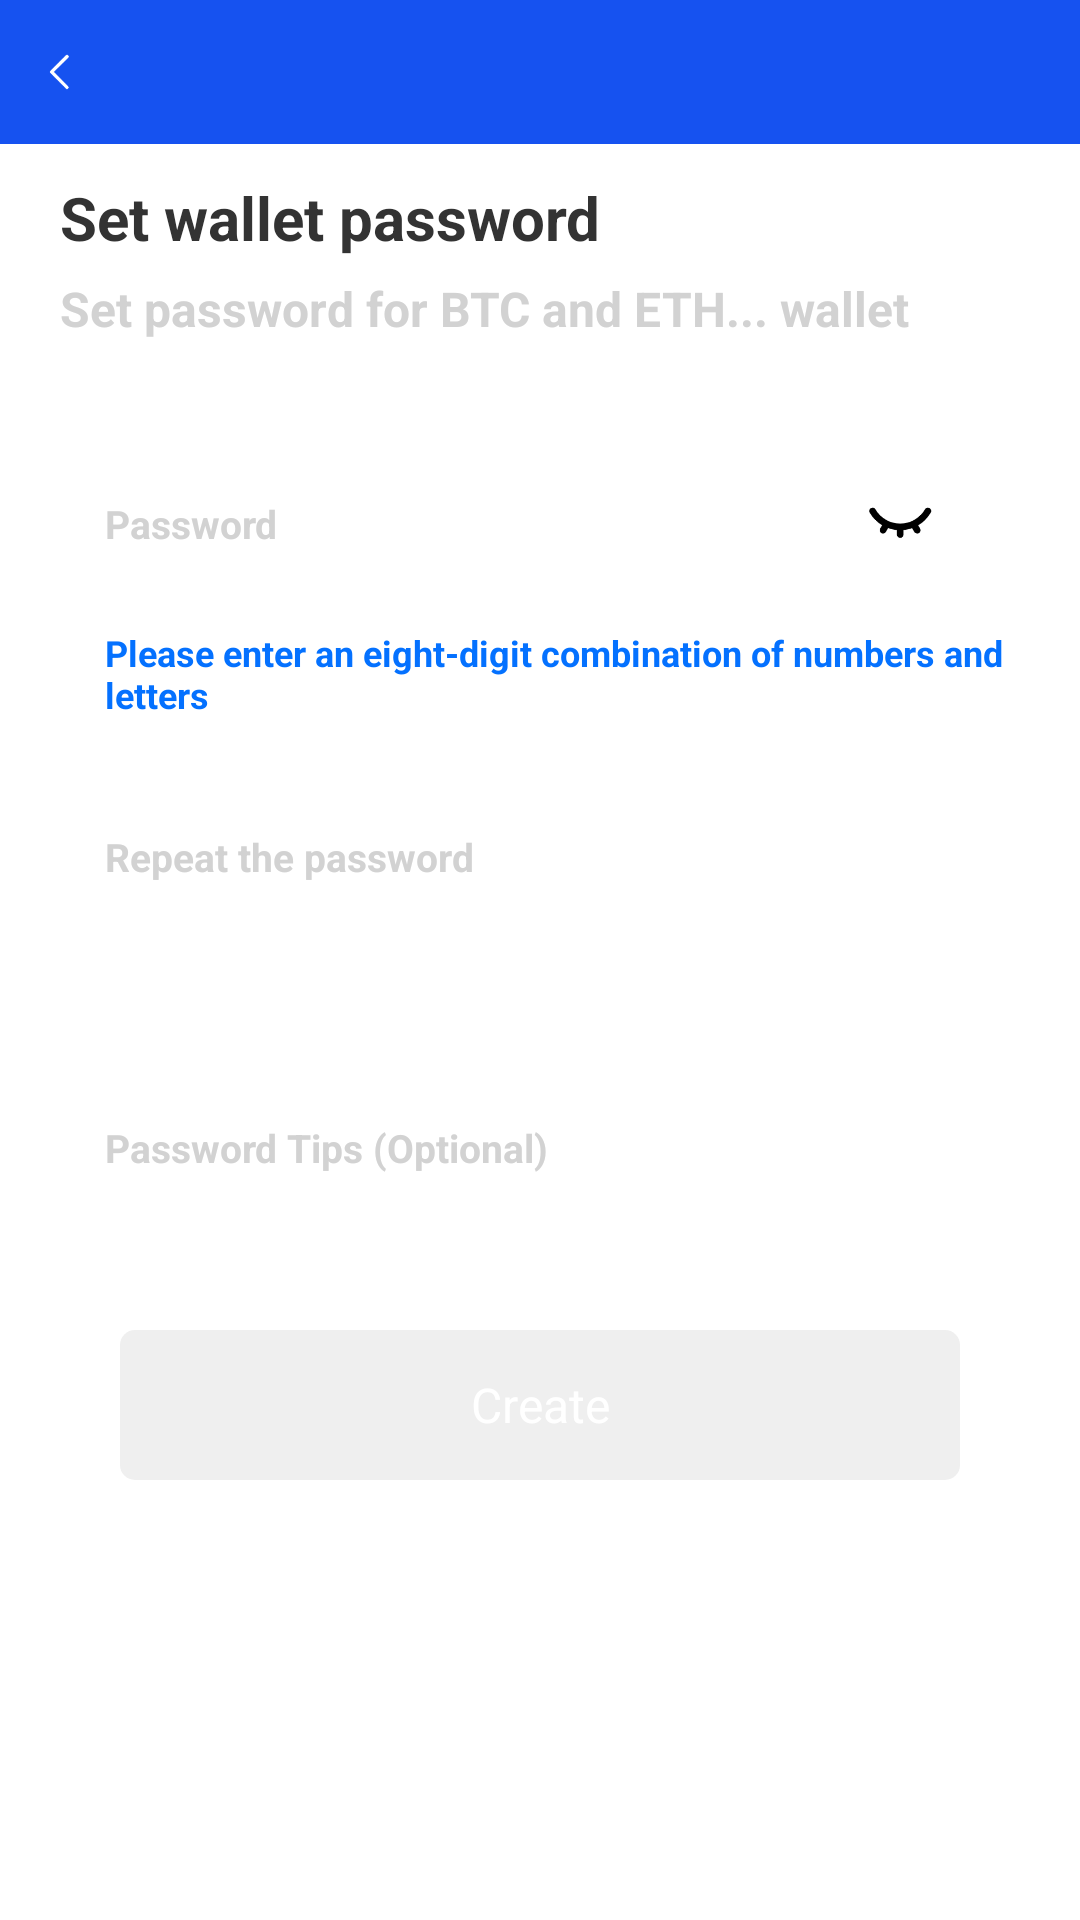

Where icons sit on this 1080 x 1920 app screen, as (x1, y1, x2, y2):
back: (50, 54, 69, 89)
nosee: (869, 507, 932, 538)
